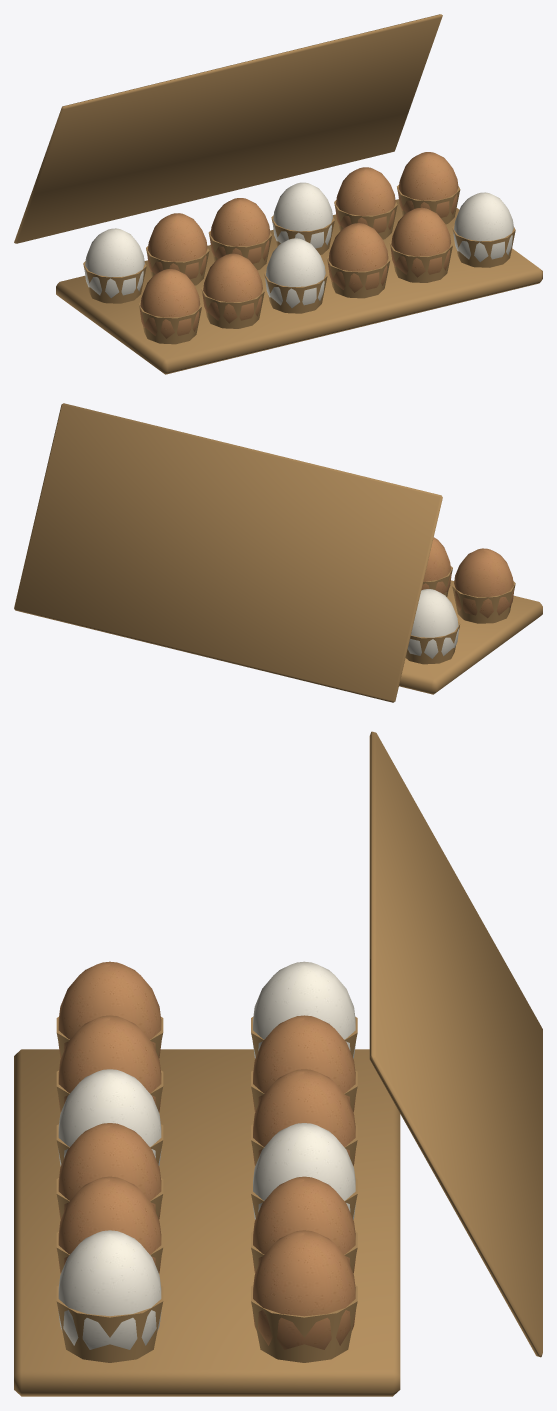
Rendered from deli_egg_carton_dozen.glb.
3 renders of one model, top to bottom at view 1: azimuth 30°, elevation 25°; view 2: azimuth 150°, elevation 25°; view 3: azimuth 270°, elevation 25°, orthographic. The views are drawn at different scales.
Visible parts, largest first — view 1: deli_egg_carton_dozen; view 2: deli_egg_carton_dozen; view 3: deli_egg_carton_dozen.
Part boxes in pixels (left/top/right/bottom): deli_egg_carton_dozen: left=14, top=14, right=542, bottom=374; deli_egg_carton_dozen: left=14, top=403, right=542, bottom=702; deli_egg_carton_dozen: left=14, top=731, right=542, bottom=1396.
Bounding box in the file's own units: 0.31 × 0.1519 × 0.2122.
Materials: 3 (2 with a texture image).
